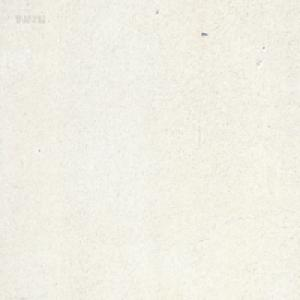Nail: (201, 30, 208, 35)
